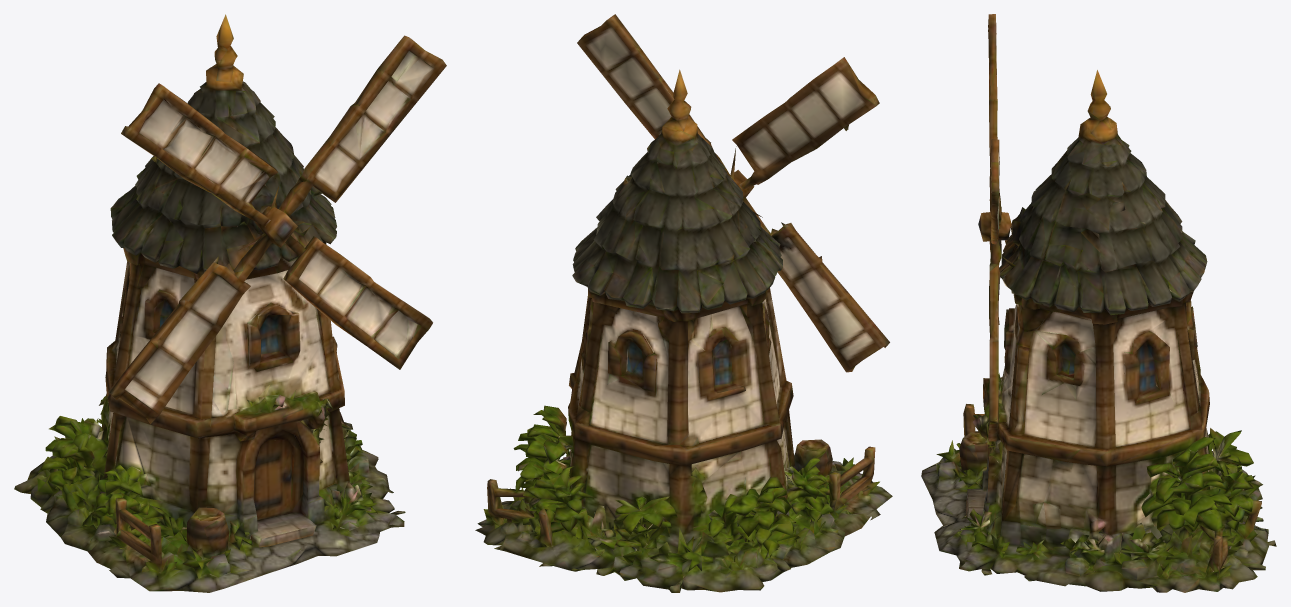
Rendered from windmill.glb.
3 views of the same model, side by side, from view 1: azimuth 30°, elevation 25°; view 2: azimuth 150°, elevation 25°; view 3: azimuth 270°, elevation 25° (orthographic). The views are drawn at different scales.
Parts seen in each view (by area): view 1: Mesh1.0; view 2: Mesh1.0; view 3: Mesh1.0.
Part boxes in pixels (x1,y1,x2,y2): Mesh1.0: (14,14,446,592); Mesh1.0: (475,14,892,592); Mesh1.0: (921,14,1276,592).
Bounding box in the file's own units: 1.38 × 1.9 × 1.35.
1 material, 1 textured.
